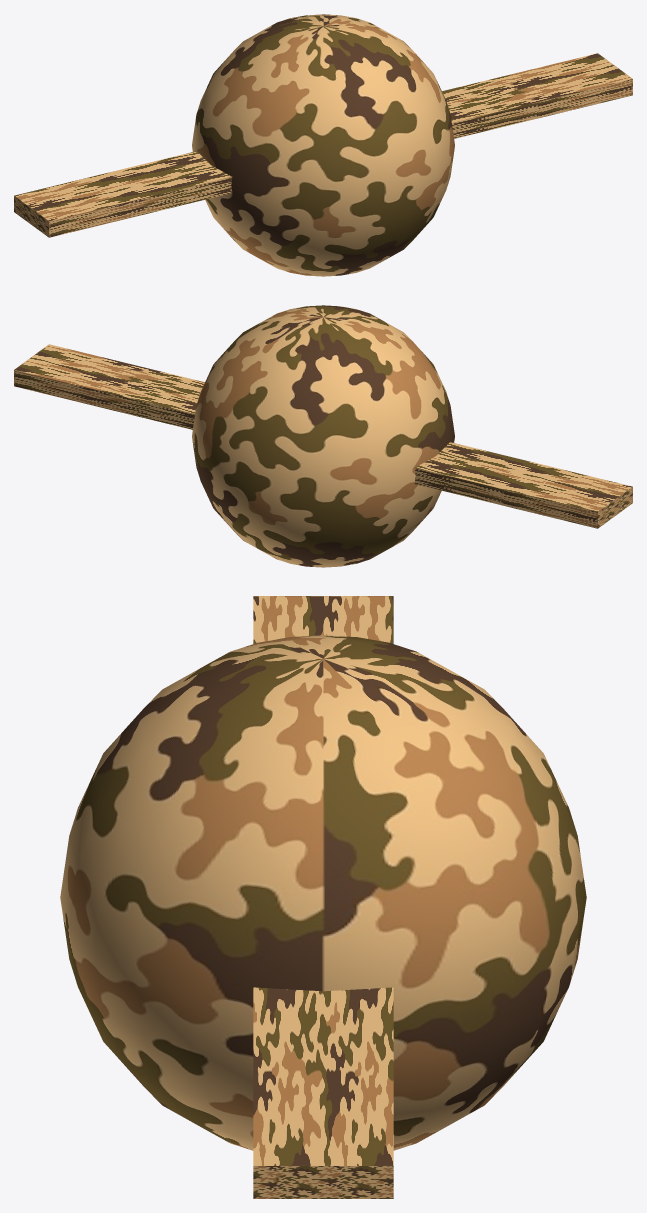
The model's file is kugel.obj.
The picture shows the model from 3 angles, top to bottom: view 1: azimuth 30°, elevation 25°; view 2: azimuth 150°, elevation 25°; view 3: azimuth 270°, elevation 25°; orthographic projection. The views are drawn at different scales.
Parts seen in each view (by area): view 1: Würfel.1; view 2: Würfel.1; view 3: Würfel.1.
Boxes of the visible parts, x1,y1,x2,y2 form: Würfel.1: [14, 14, 632, 276]; Würfel.1: [14, 305, 632, 567]; Würfel.1: [60, 596, 586, 1198].
Bounding box in the file's own units: 119 × 46.4 × 46.4.
1 material, 1 textured.
